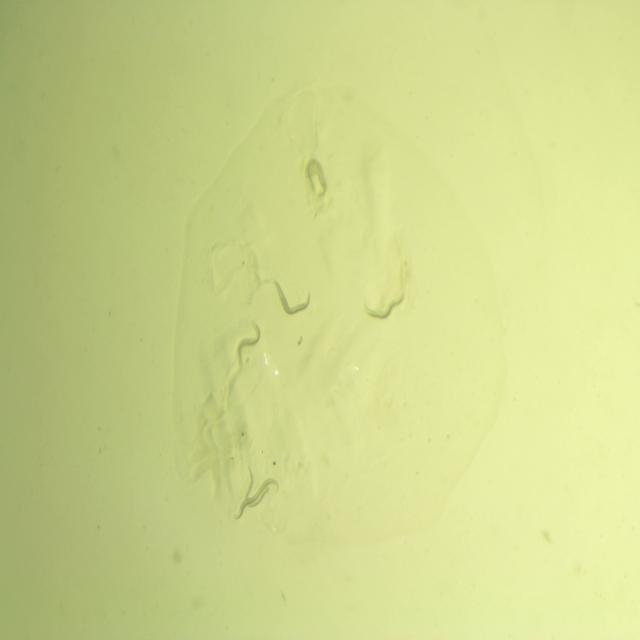worm: (360, 278, 407, 338), (267, 272, 324, 321), (231, 473, 281, 526), (233, 318, 266, 373), (301, 148, 330, 207), (240, 464, 273, 510)
